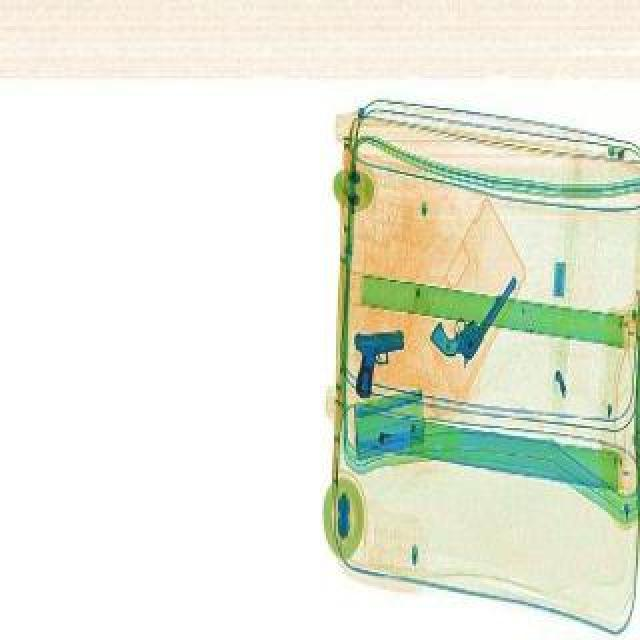gun: (424, 266, 526, 374), (352, 332, 404, 404)
